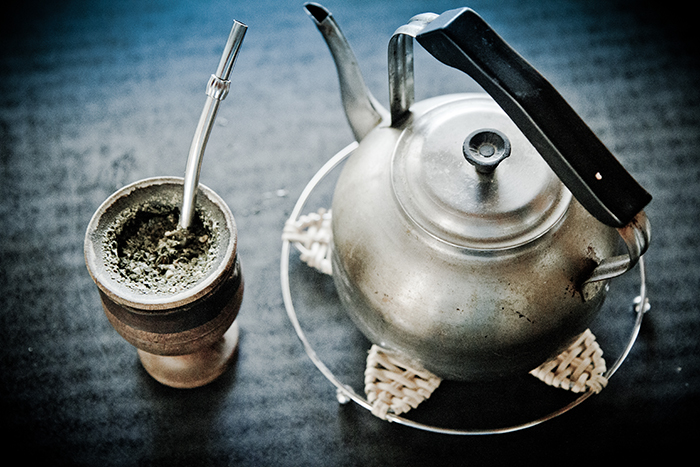guampa: (55, 9, 255, 405)
